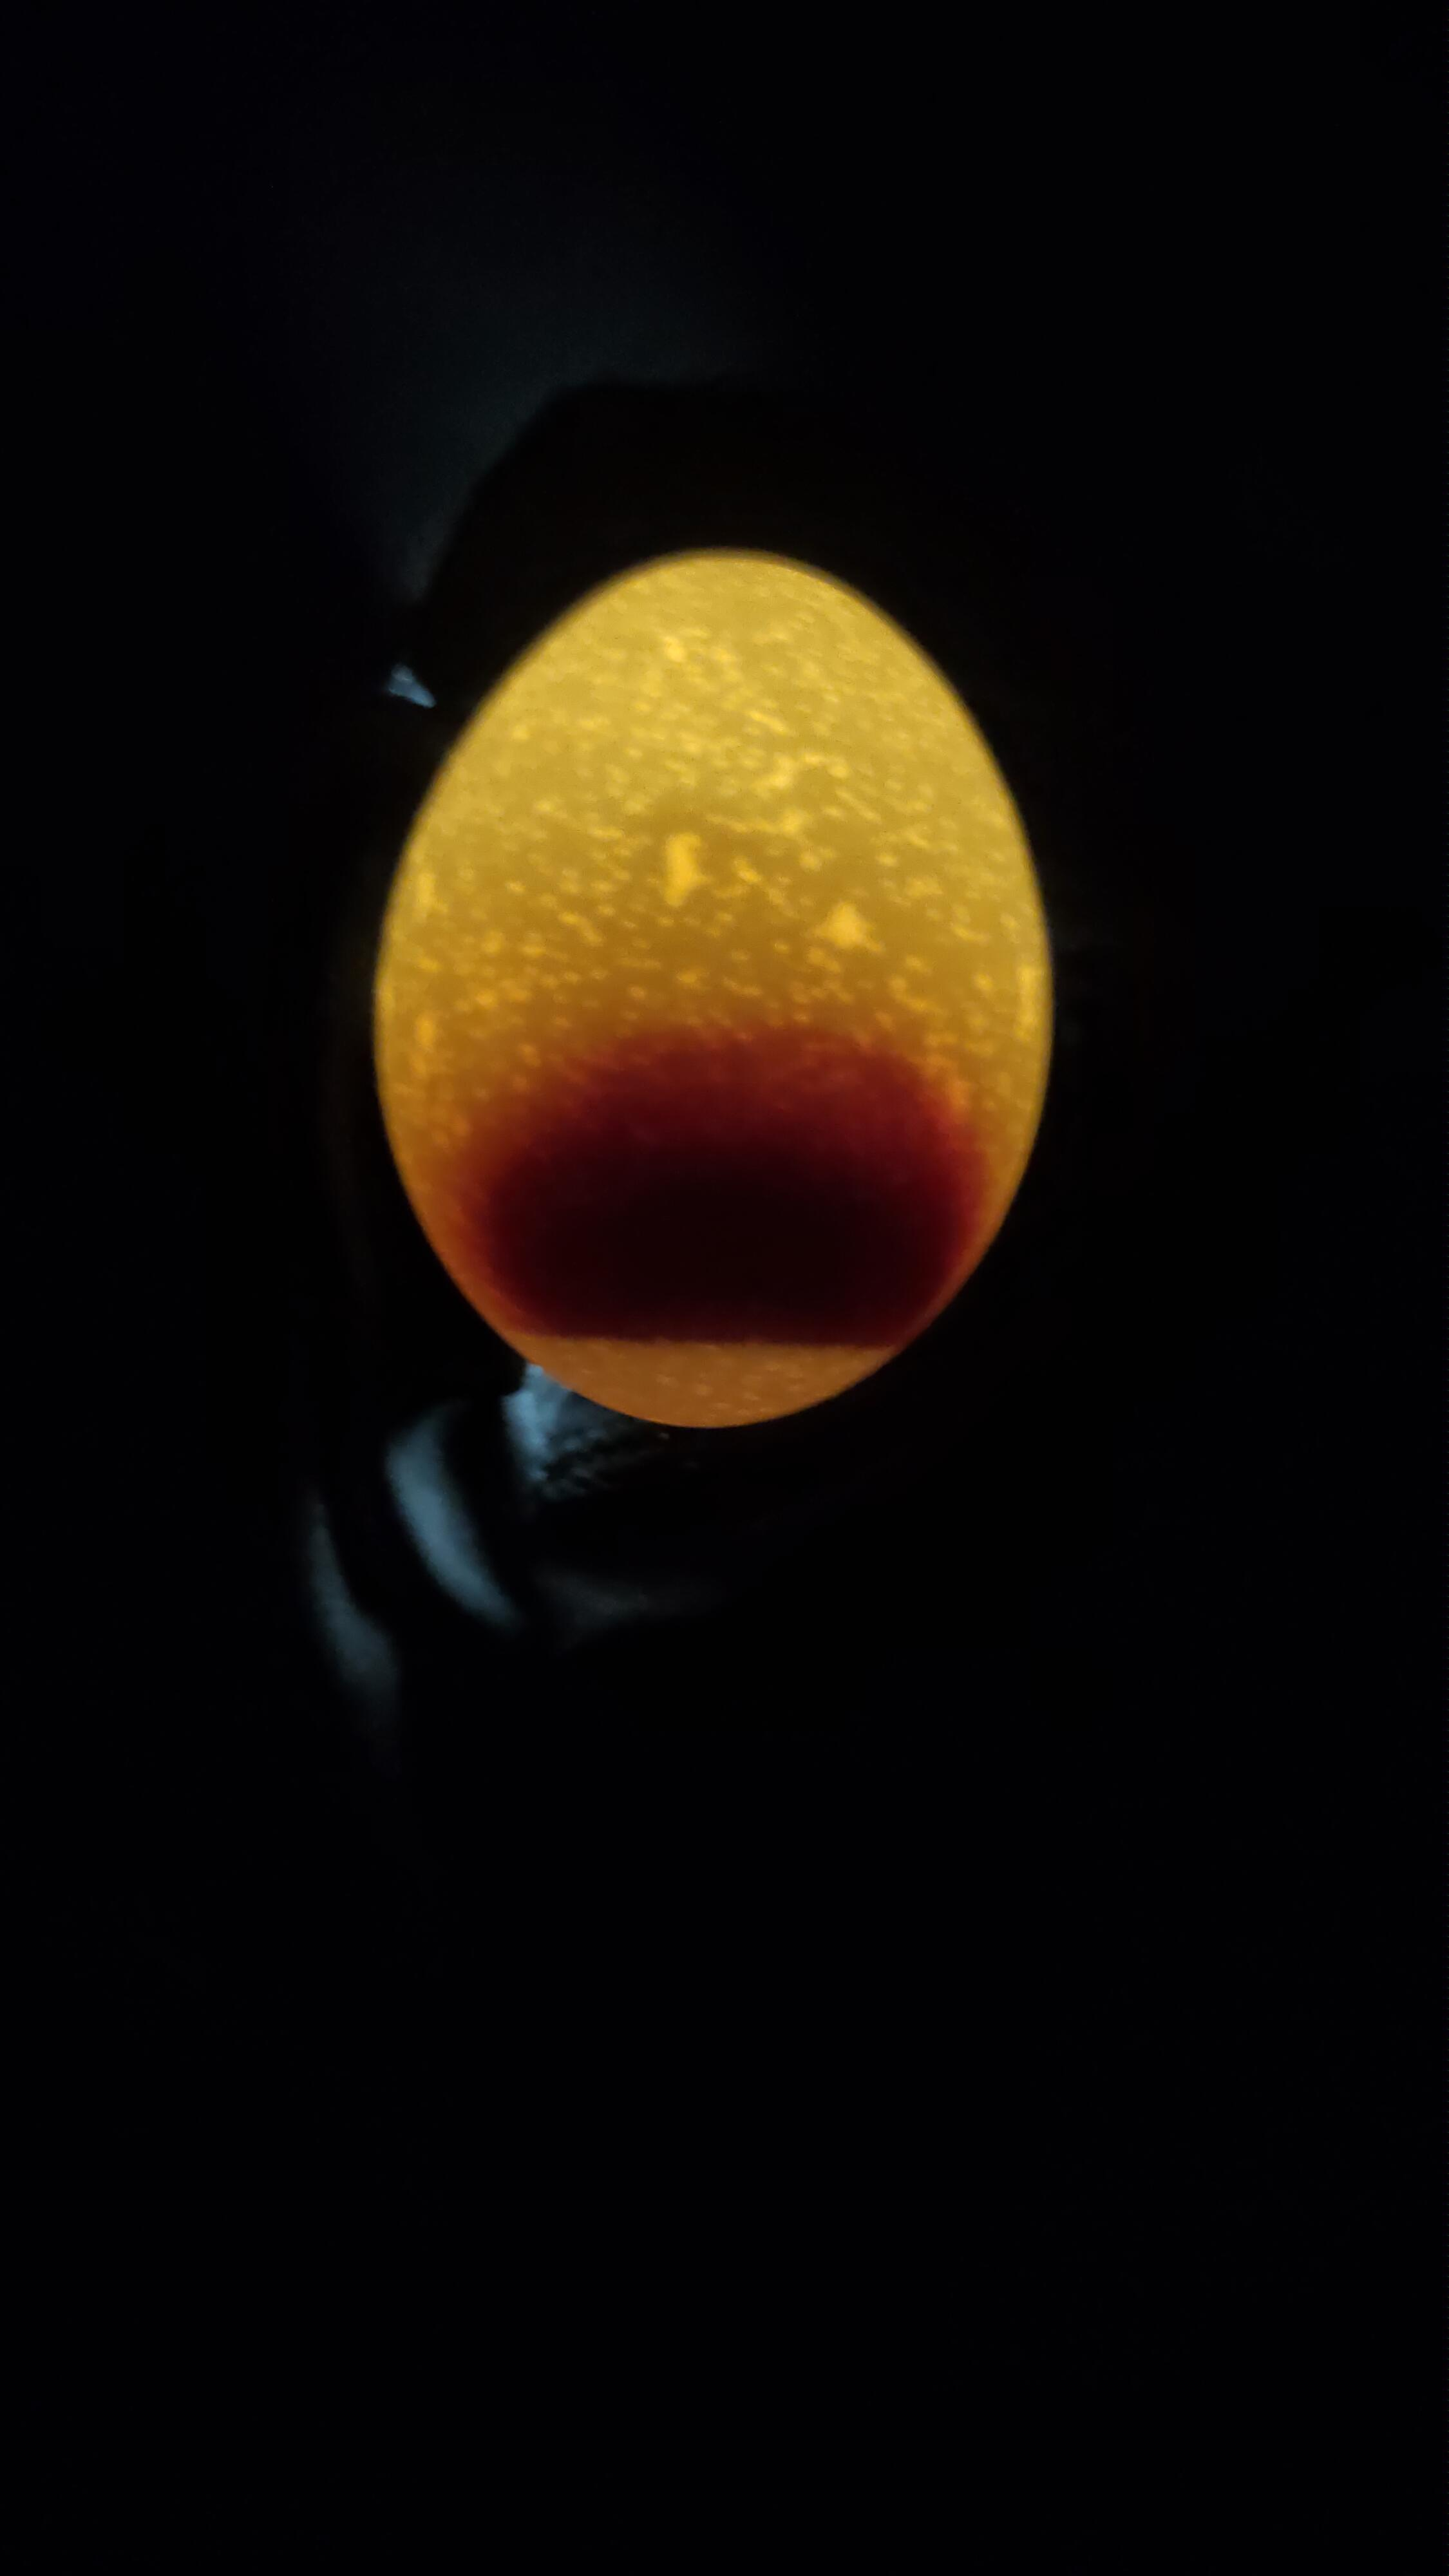AA - Premium: (345, 510, 1088, 1456)
